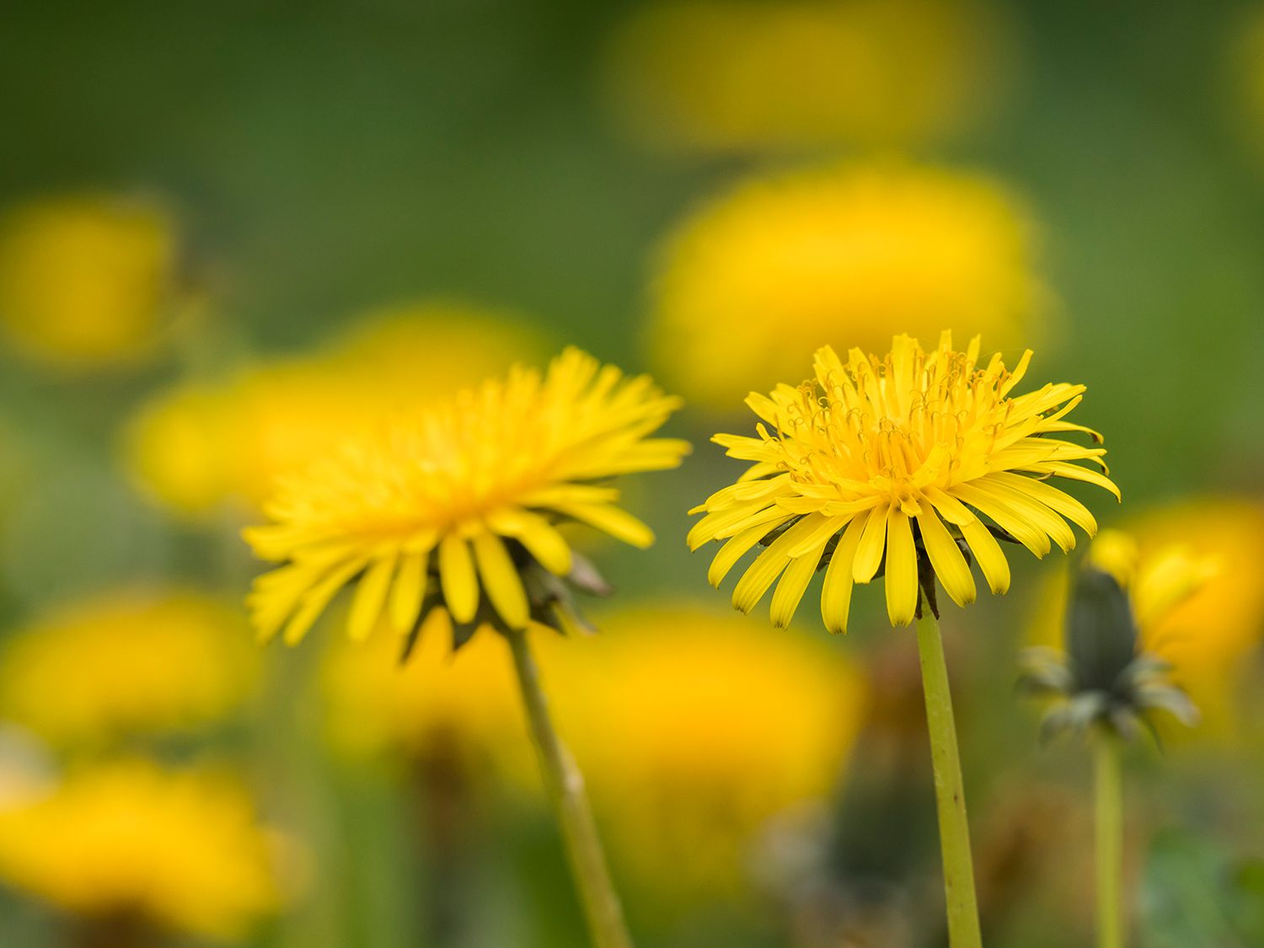begonvil: (226, 352, 693, 697), (681, 321, 1127, 677)
